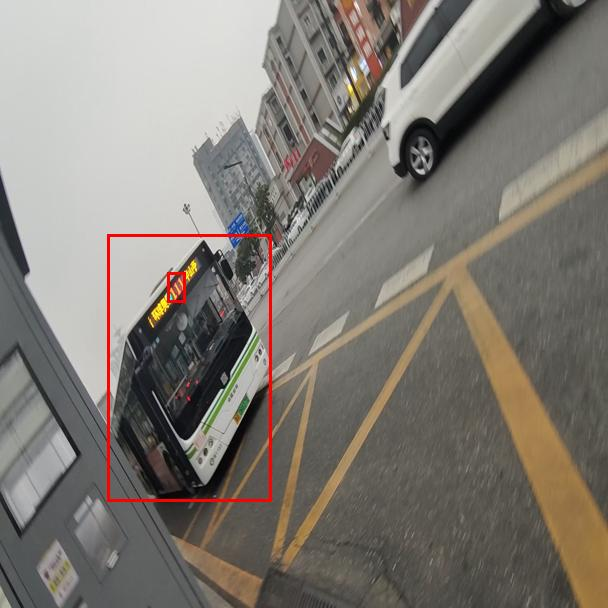bus: (107, 234, 271, 501)
screen: (167, 272, 185, 302)
